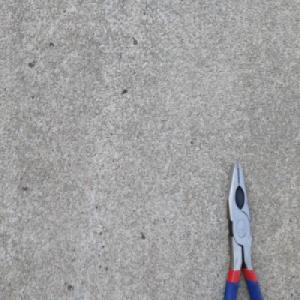Pliers: (221, 159, 263, 300)
